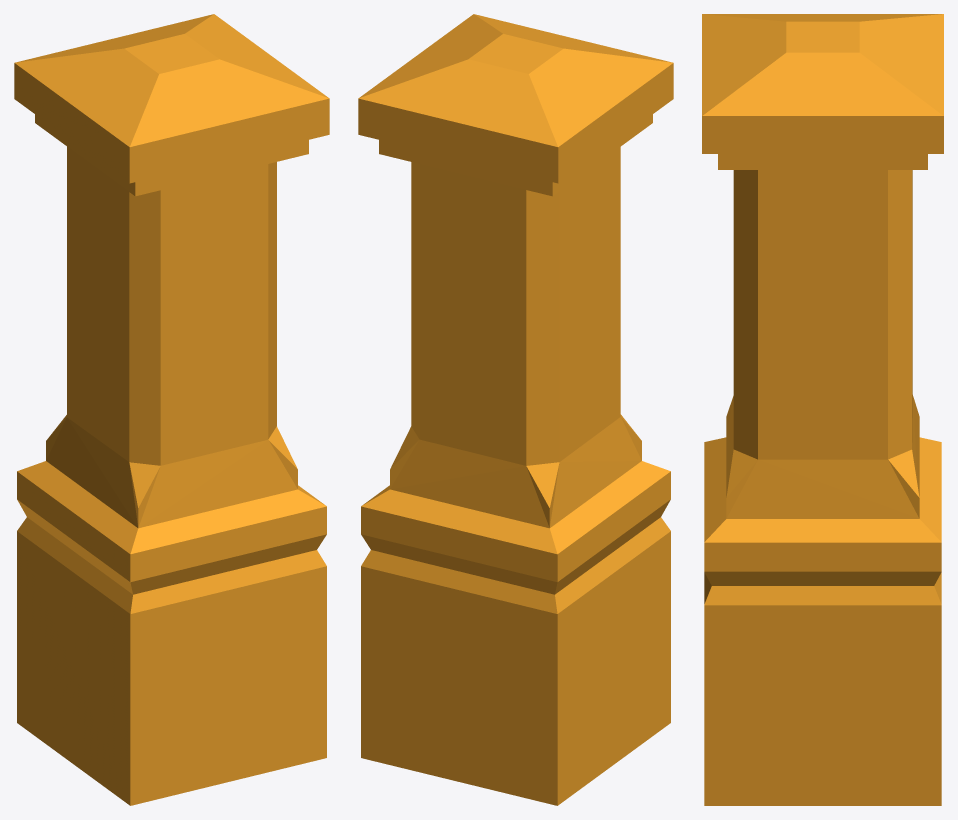
Rendered from SM_Railing_Stone_Post_B_Fantasy.fbx.
3 views of the same model, side by side, from view 1: azimuth 30°, elevation 25°; view 2: azimuth 150°, elevation 25°; view 3: azimuth 270°, elevation 25° (orthographic). The views are drawn at different scales.
Parts seen in each view (by area): view 1: SM_Railing_Stone_Post_B_Fantasy; view 2: SM_Railing_Stone_Post_B_Fantasy; view 3: SM_Railing_Stone_Post_B_Fantasy.
Part boxes in pixels (box(x1,y1,x2,y2)): SM_Railing_Stone_Post_B_Fantasy: box(14, 14, 329, 805); SM_Railing_Stone_Post_B_Fantasy: box(358, 14, 673, 805); SM_Railing_Stone_Post_B_Fantasy: box(702, 14, 943, 805).
Size of the model in its own units: 0.4931 by 1.62 by 0.4931.
